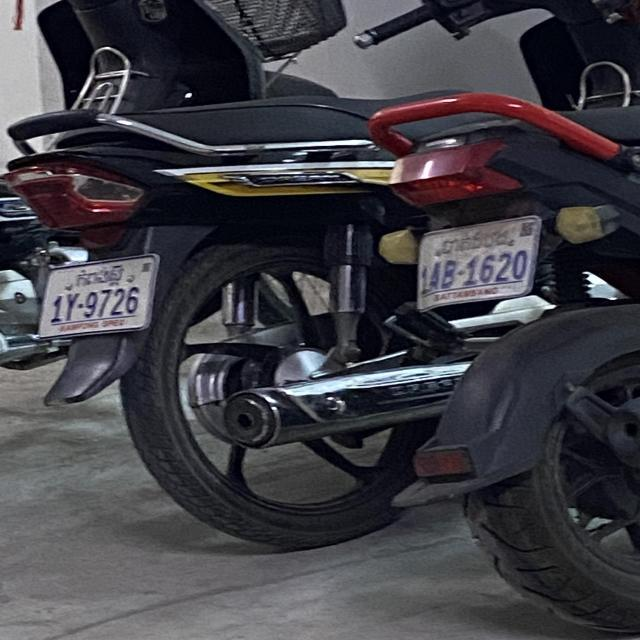Battambang: (437, 227, 513, 254)
Kampong_Speu: (75, 262, 124, 288)
